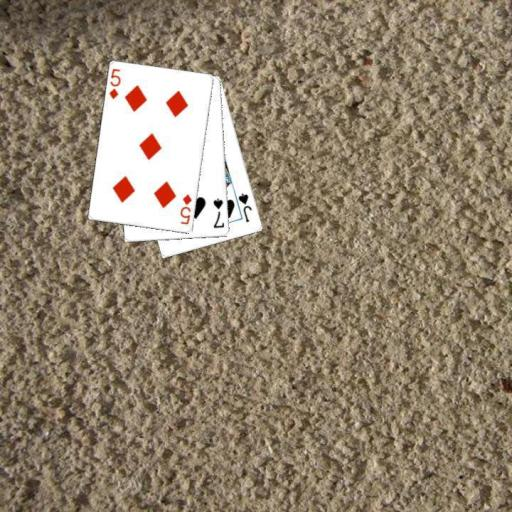card-corner: (235, 190, 254, 224), (106, 65, 122, 101), (177, 191, 193, 226), (211, 196, 226, 230)
